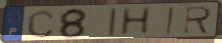8: (58, 7, 89, 39)
C: (26, 9, 57, 39)
H: (118, 6, 153, 37)
I: (107, 7, 119, 37), (165, 6, 175, 35)
R: (181, 5, 214, 36)
